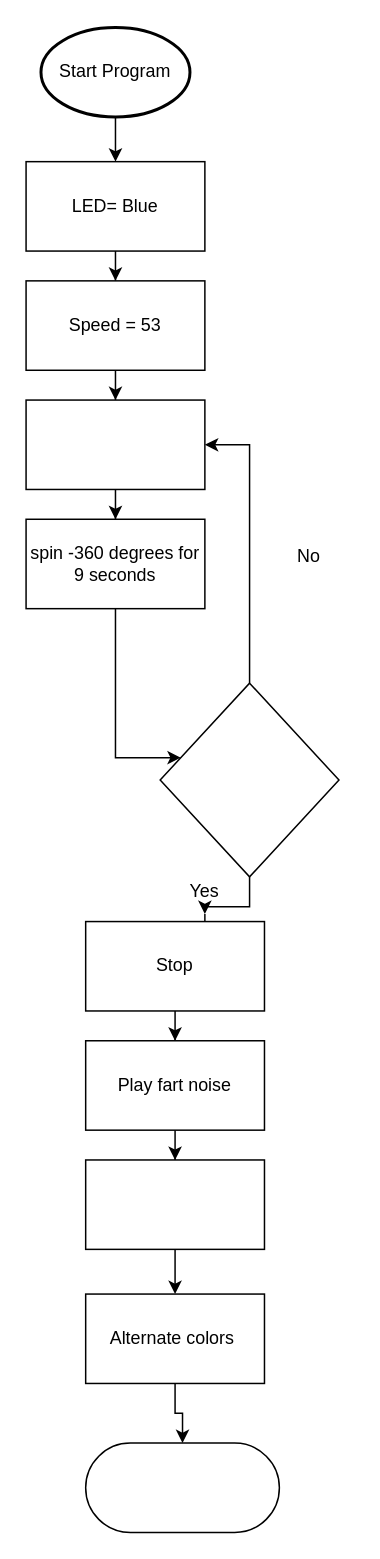
Image size: 380x1559. Some labels were removed from this diagram. The centre of each missing label's shape, as x and y in pixels:
Exit Program: (x=181, y=1487)
Number of course completions<5?: (x=249, y=779)
Speak: "I am the winner": (x=174, y=1203)
Spin 360 degrees for 9 seconds: (x=115, y=444)
